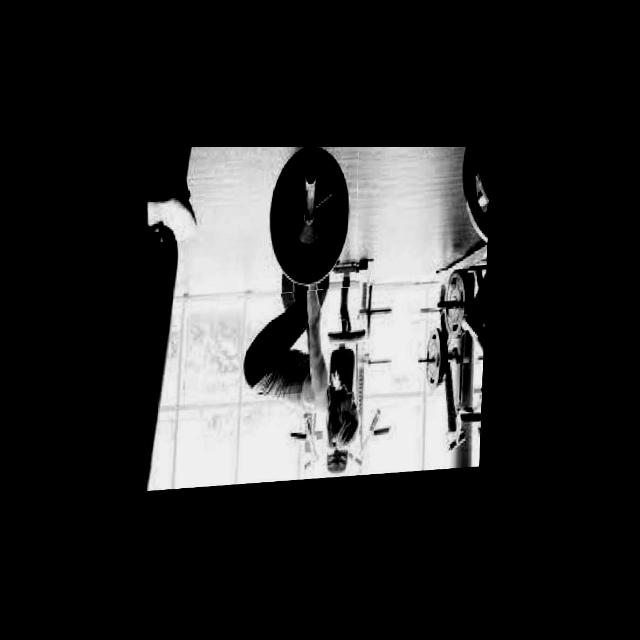barbell: (261, 147, 361, 296)
